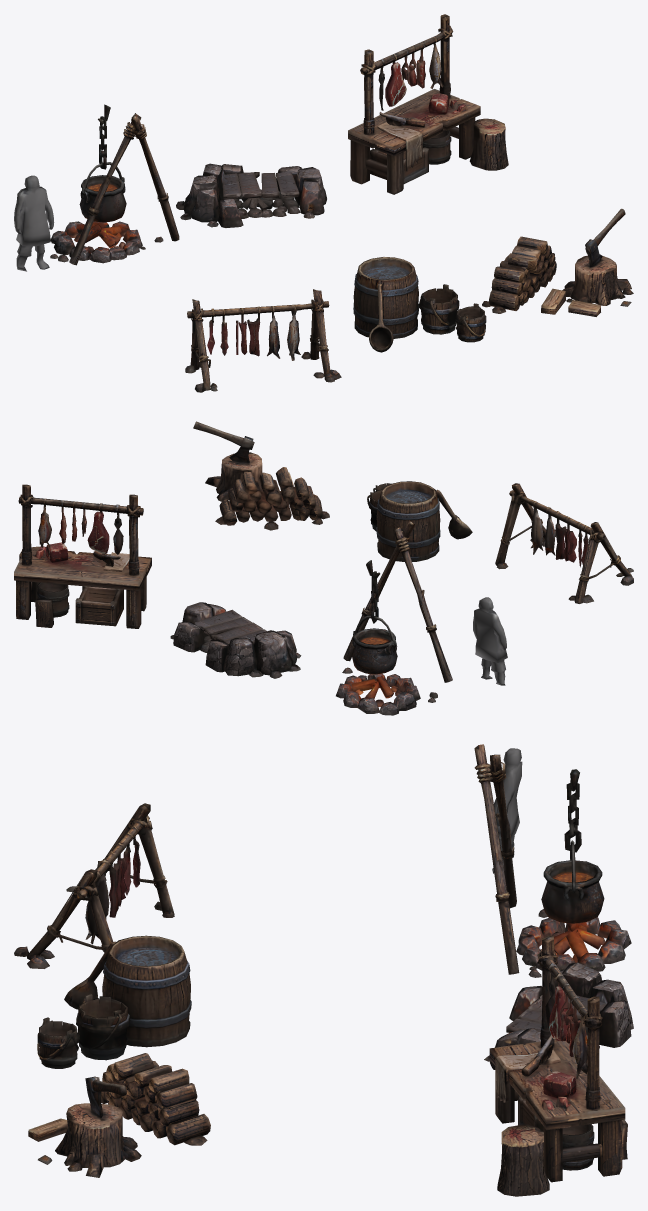
The model's file is asset_14_camp_kitchen_set.glb.
The picture shows the model from 3 angles, top to bottom: view 1: azimuth 30°, elevation 25°; view 2: azimuth 150°, elevation 25°; view 3: azimuth 270°, elevation 25°; orthographic projection. The views are drawn at different scales.
Visible parts, largest first — view 1: tripo_5a83cca7_182c_420a_b9a1_4e0751a9fbe0; view 2: tripo_5a83cca7_182c_420a_b9a1_4e0751a9fbe0; view 3: tripo_5a83cca7_182c_420a_b9a1_4e0751a9fbe0.
Part boxes in pixels (left/top/right/bottom): tripo_5a83cca7_182c_420a_b9a1_4e0751a9fbe0: left=14, top=14, right=633, bottom=392; tripo_5a83cca7_182c_420a_b9a1_4e0751a9fbe0: left=14, top=421, right=633, bottom=715; tripo_5a83cca7_182c_420a_b9a1_4e0751a9fbe0: left=14, top=744, right=633, bottom=1196.
Size of the model in its own units: 0.9995 by 0.2993 by 0.8101.
1 material, 1 textured.
